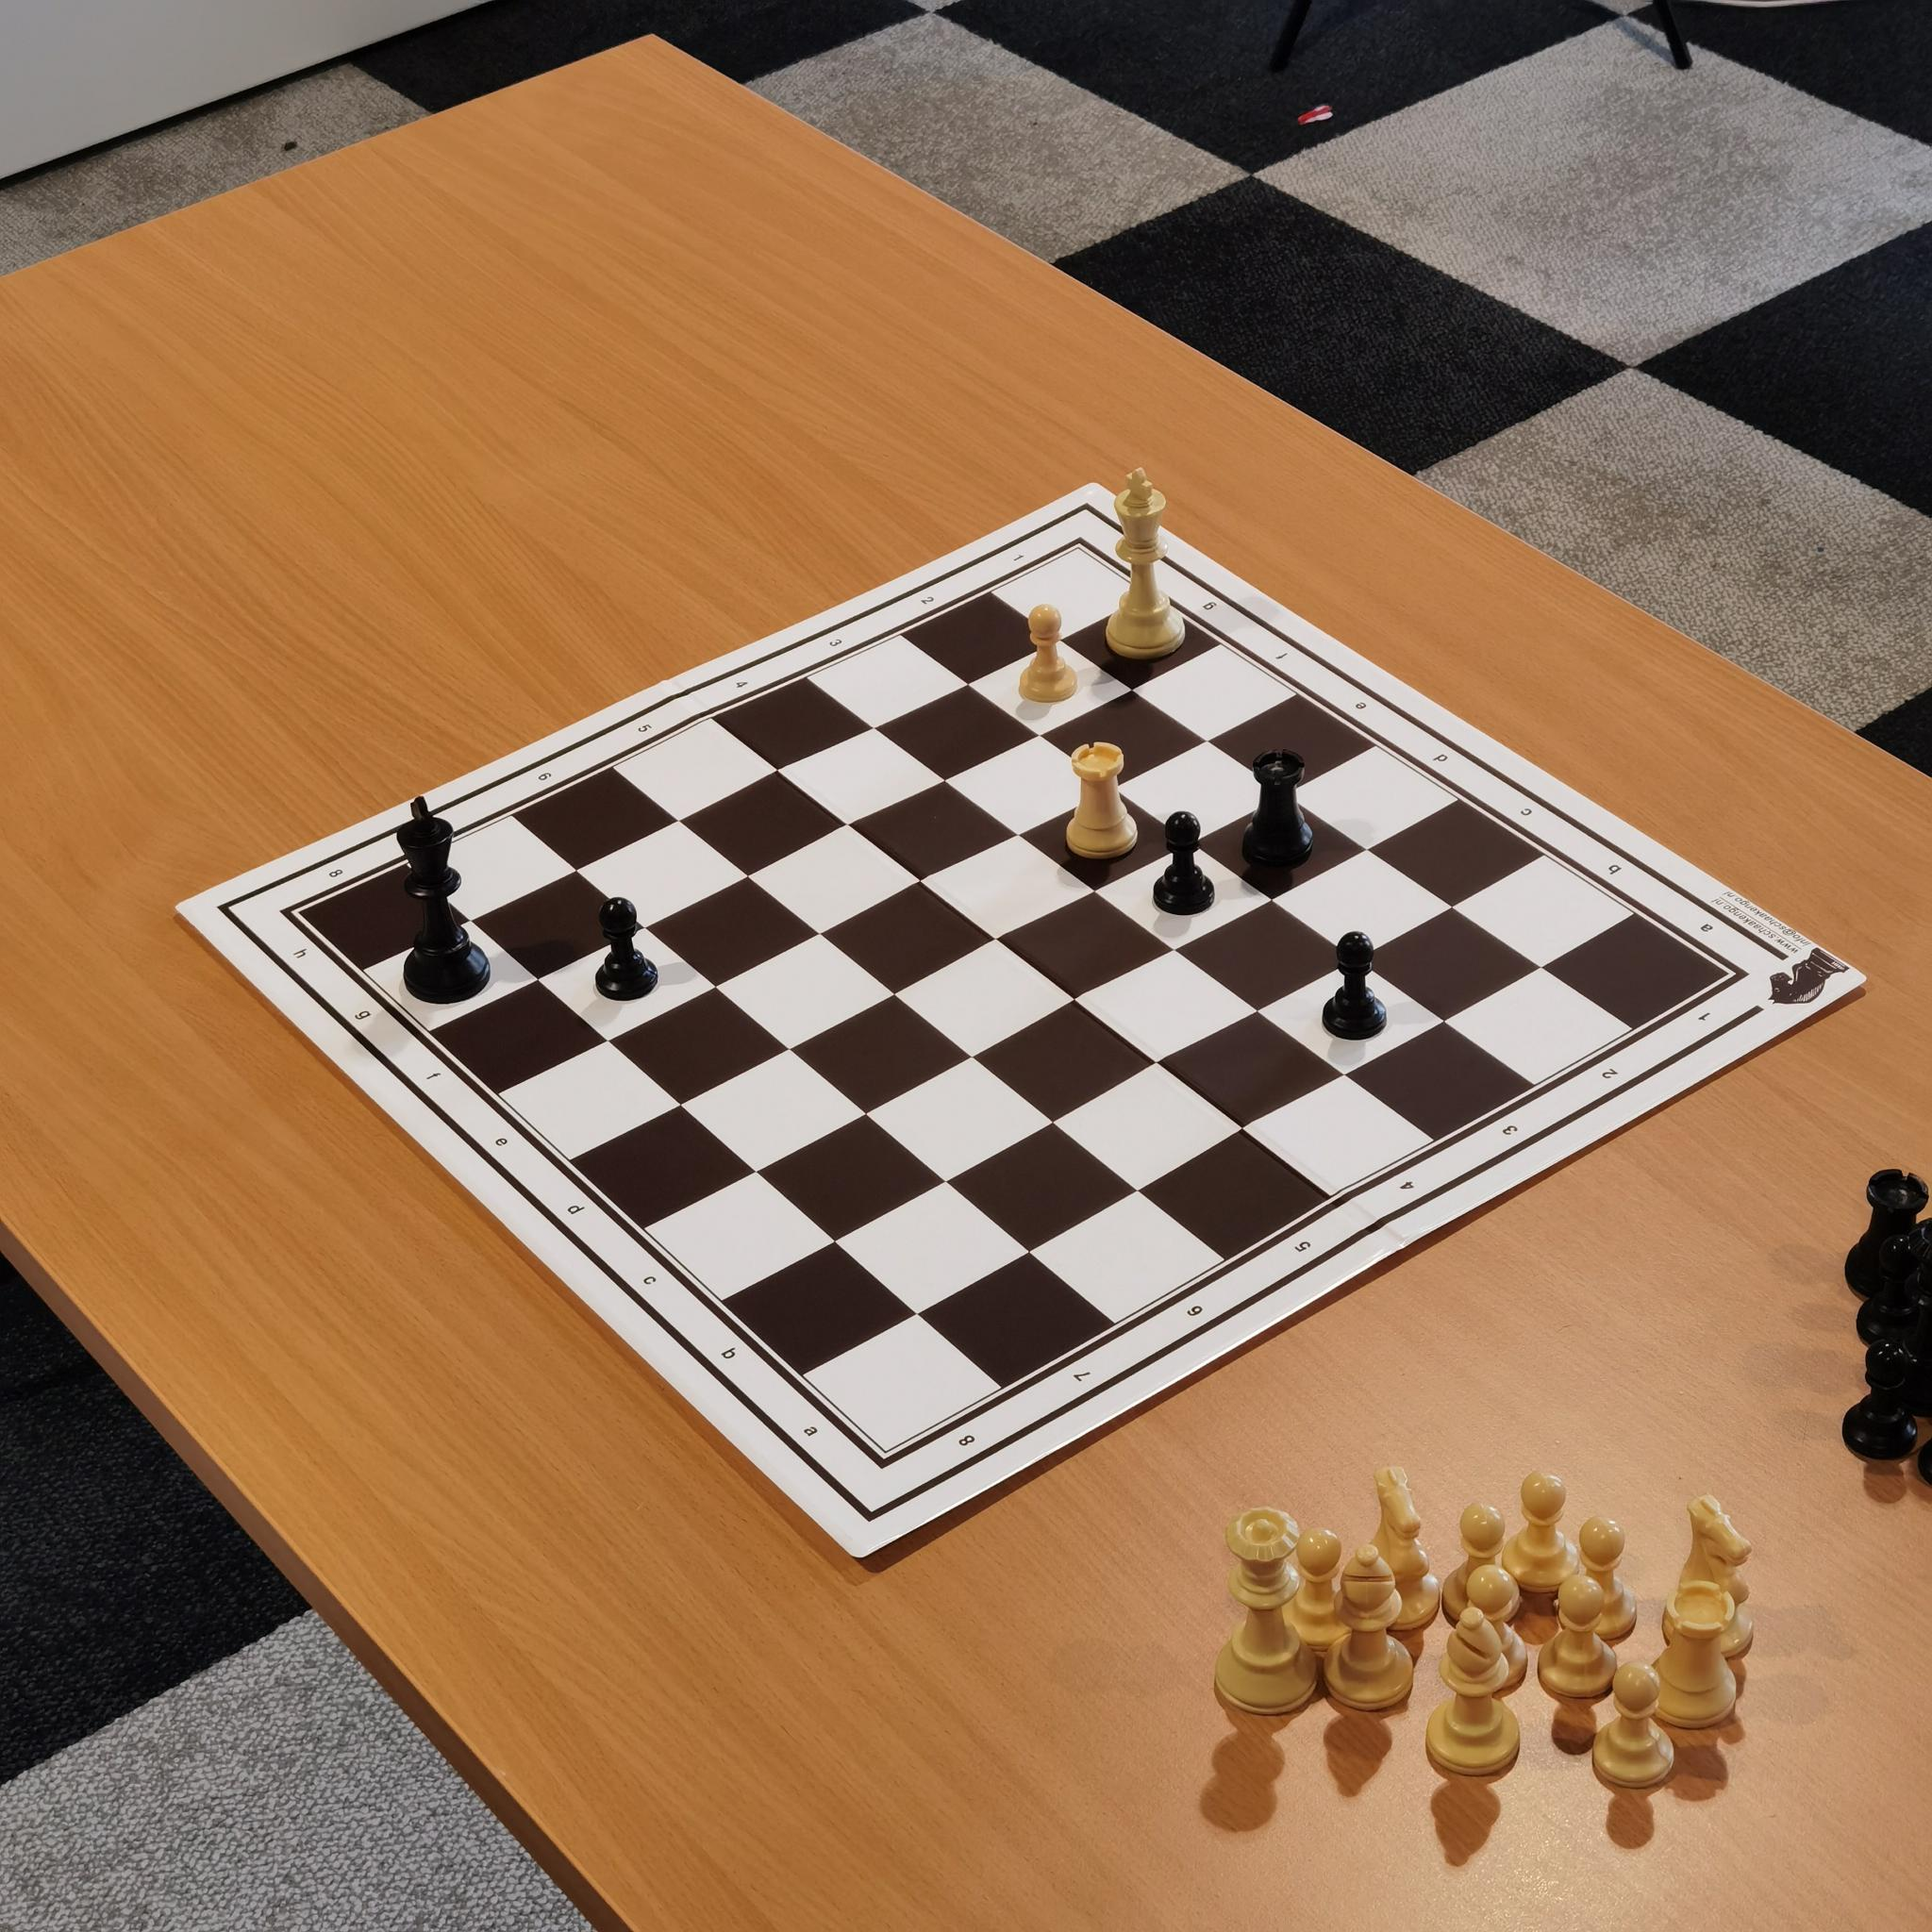corners: (1709, 954, 1764, 998), (860, 1426, 913, 1470), (271, 893, 326, 932), (1058, 533, 1099, 566)
eight: (943, 1414, 991, 1460), (318, 849, 357, 890)
one: (1675, 996, 1732, 1039), (994, 538, 1042, 577)
